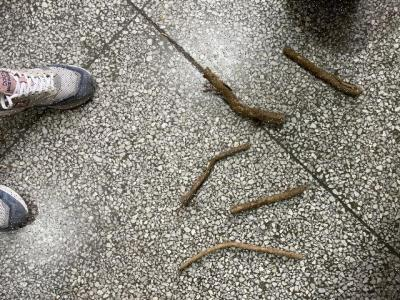Root: (203, 68, 284, 125), (180, 143, 249, 204), (178, 242, 302, 274), (283, 46, 361, 96), (230, 185, 308, 213)
